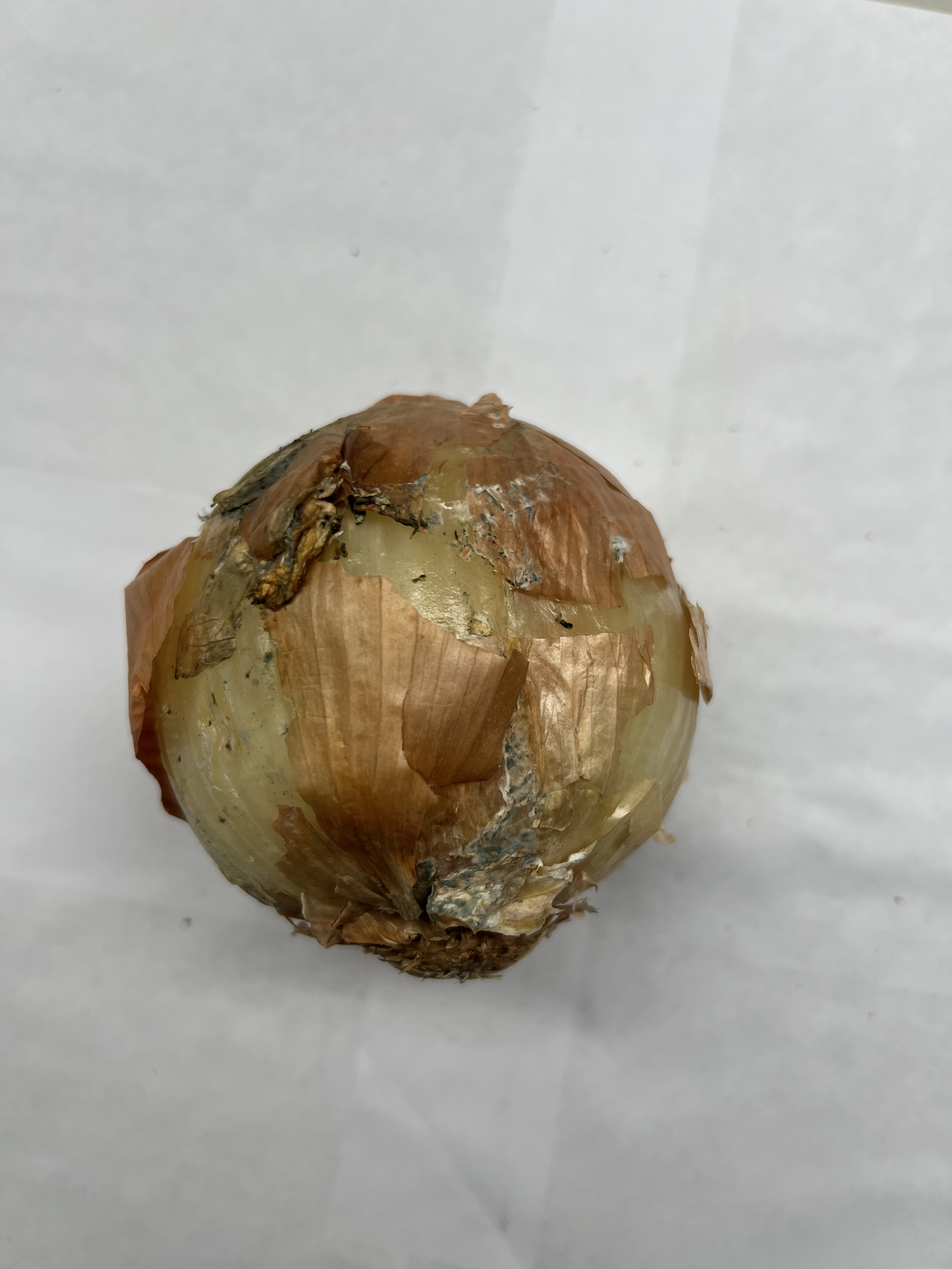mold: (161, 389, 650, 986)
